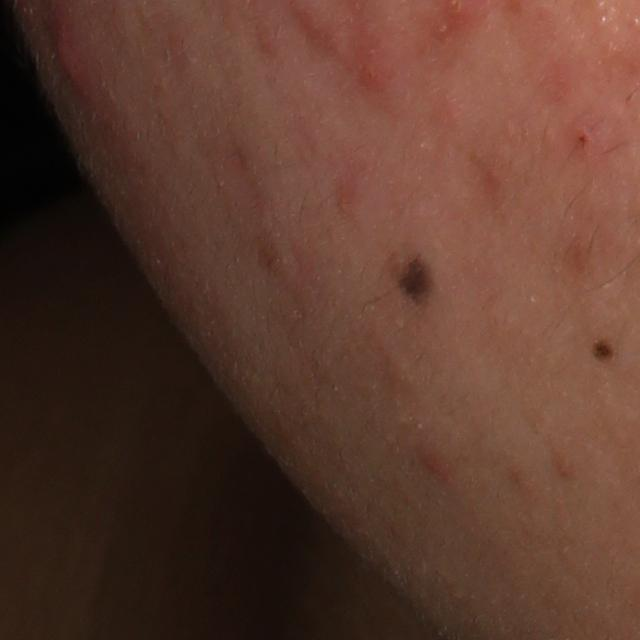nevus: (396, 248, 435, 314), (590, 338, 617, 365)
papule: (47, 28, 83, 97), (354, 47, 386, 91), (416, 444, 451, 478)
